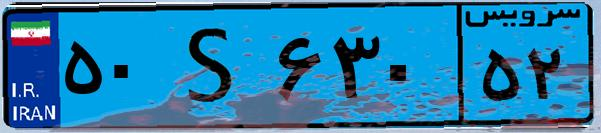0: (385, 28, 445, 110), (110, 28, 158, 98)
2: (525, 38, 570, 115)
3: (330, 28, 385, 110)
5: (57, 26, 110, 100), (475, 38, 525, 113)
6: (270, 28, 330, 110)
S: (158, 12, 270, 120)
